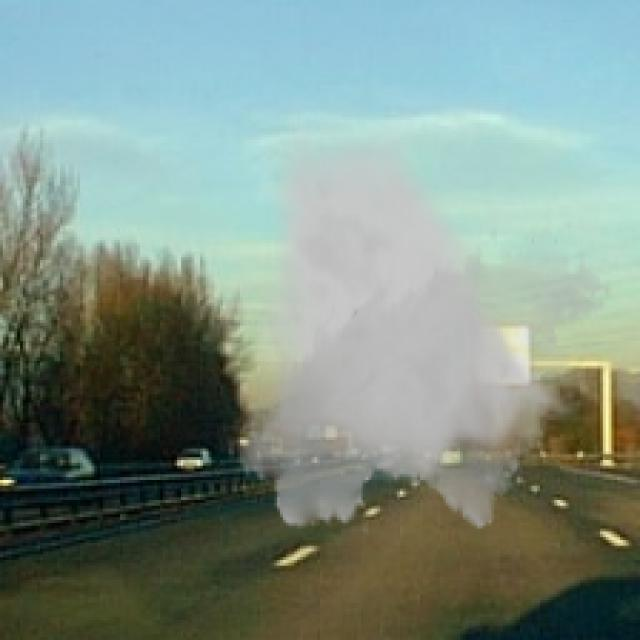smoke: (226, 114, 614, 540)
